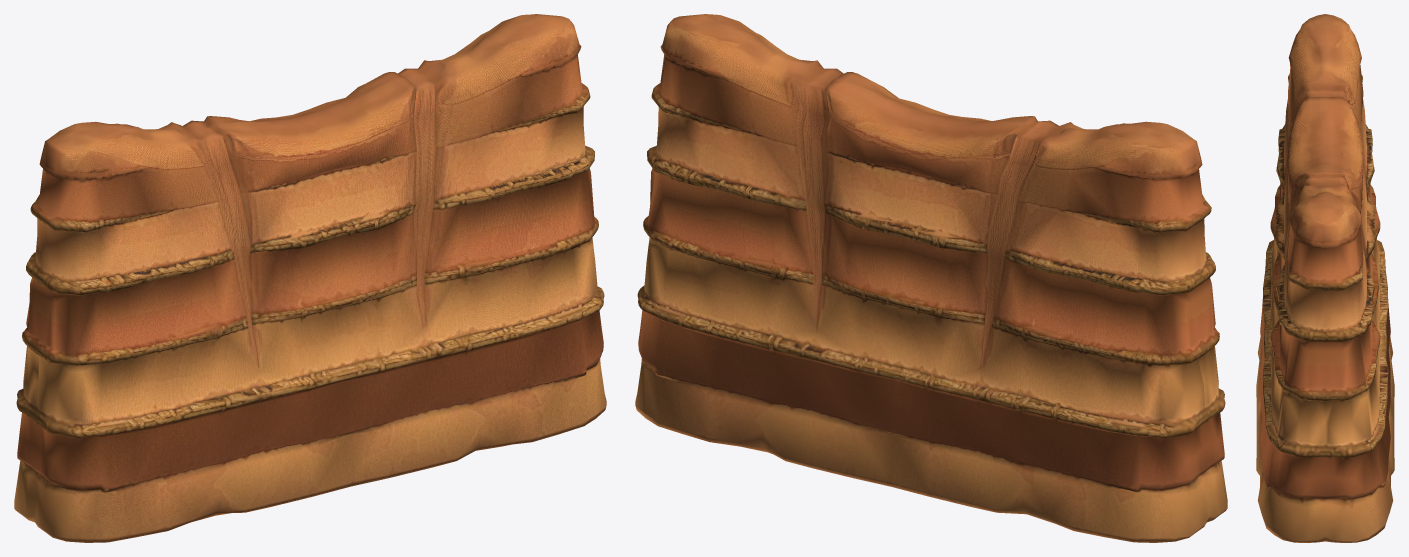
File: SM_Tripo_DesertHanWall.glb
3 renders of one model, left to right at view 1: azimuth 30°, elevation 25°; view 2: azimuth 150°, elevation 25°; view 3: azimuth 270°, elevation 25°, orthographic. The views are drawn at different scales.
Parts seen in each view (by area): view 1: SM_Tripo_DesertHanWall_LOD0; view 2: SM_Tripo_DesertHanWall_LOD0; view 3: SM_Tripo_DesertHanWall_LOD0.
Boxes of the visible parts, x1,y1,x2,y2 form: SM_Tripo_DesertHanWall_LOD0: (14, 14, 606, 542); SM_Tripo_DesertHanWall_LOD0: (635, 14, 1227, 542); SM_Tripo_DesertHanWall_LOD0: (1256, 14, 1394, 542).
Bounding box in the file's own units: 5.33 × 3.5 × 1.37.
Materials: 1 (1 with a texture image).
